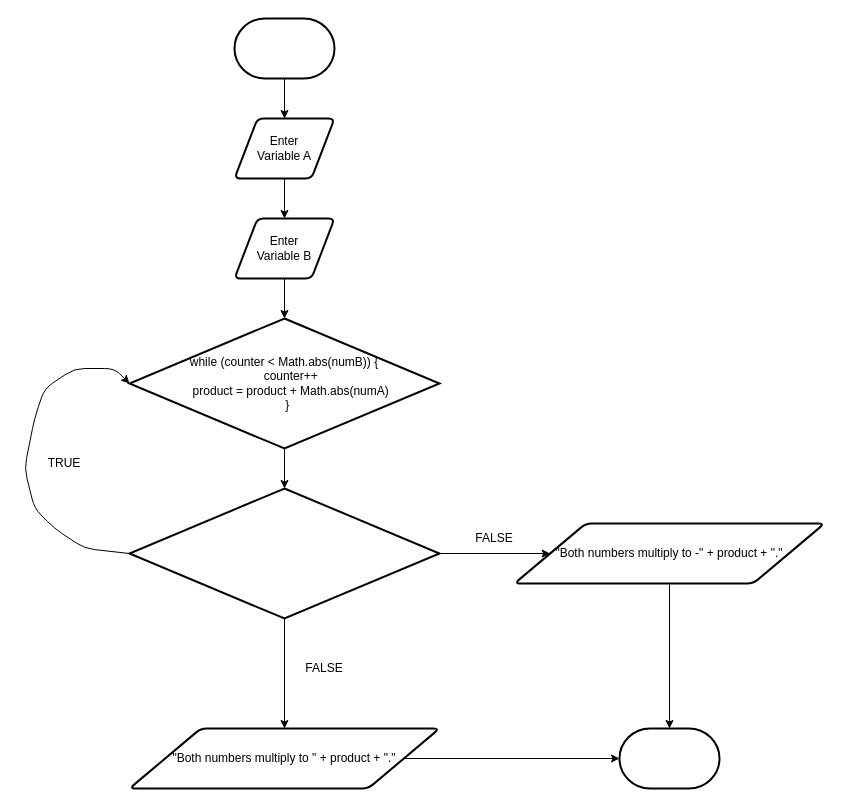
Some shapes in this 843 by 806 pixel diagram are drawn without their labels. Each missing label, with the centre of its shape:
"if ((numA < 0 && numB > 0) || (numB < 0 && numA > 0))" belongs at (284,553).
"Start" belongs at (284,48).
"Stop" belongs at (669,758).
